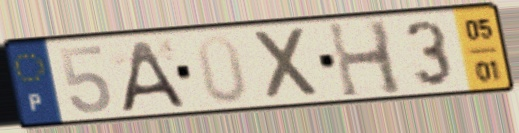0: (194, 32, 250, 106)
3: (402, 18, 455, 88)
5: (56, 42, 115, 116)
A: (117, 37, 189, 114)
H: (324, 17, 408, 102)
X: (250, 25, 324, 105)
